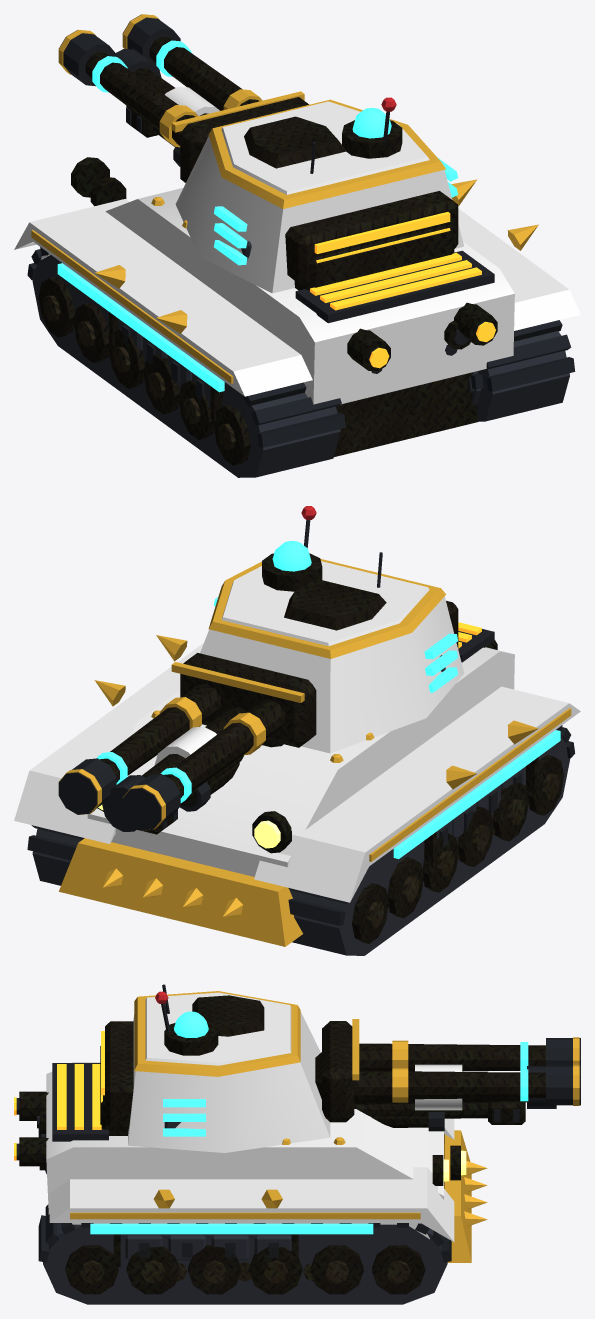
Rendered from tanks.glb.
The picture shows the model from 3 angles, top to bottom: view 1: azimuth 30°, elevation 25°; view 2: azimuth 150°, elevation 25°; view 3: azimuth 270°, elevation 25°; orthographic projection. The views are drawn at different scales.
Parts seen in each view (by area): view 1: hull (×2), turret (×2), barrel_L, barrel_R, barrel; view 2: hull (×2), turret, barrel_L, barrel_R, barrel (×2); view 3: hull (×2), turret (×2), barrel_R, barrel_L, barrel (×3).
Boxes of the visible parts, bbox=[...] form: hull (×2): bbox=[14, 157, 580, 477]; turret (×2): bbox=[171, 91, 464, 293]; barrel_L: bbox=[58, 29, 198, 147]; barrel_R: bbox=[122, 14, 262, 110]; barrel: bbox=[116, 49, 219, 115]; hull (×2): bbox=[14, 622, 580, 955]; turret: bbox=[171, 541, 464, 753]; barrel_L: bbox=[122, 699, 284, 830]; barrel_R: bbox=[58, 684, 220, 814]; barrel (×2): bbox=[102, 707, 246, 831]; hull (×2): bbox=[14, 1062, 487, 1304]; turret (×2): bbox=[100, 991, 359, 1152]; barrel_R: bbox=[354, 1064, 580, 1105]; barrel_L: bbox=[359, 1037, 580, 1071]; barrel (×3): bbox=[354, 1064, 556, 1131].
Bounding box in the file's own units: 2.87 × 2.16 × 4.21.
10 materials, 2 textured.
